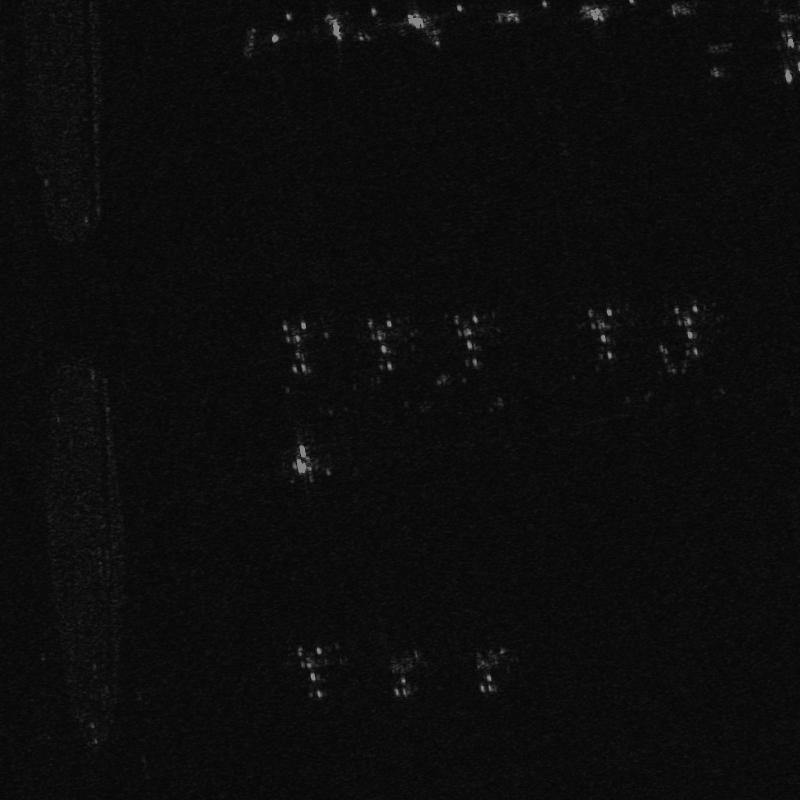A220: (381, 646, 427, 705)
A320/321: (458, 642, 510, 704)
ARJ21: (289, 643, 350, 706), (758, 9, 799, 86), (285, 428, 333, 482)
other: (355, 313, 404, 381), (448, 307, 496, 371), (665, 299, 713, 363), (576, 305, 626, 364), (278, 314, 317, 378)
